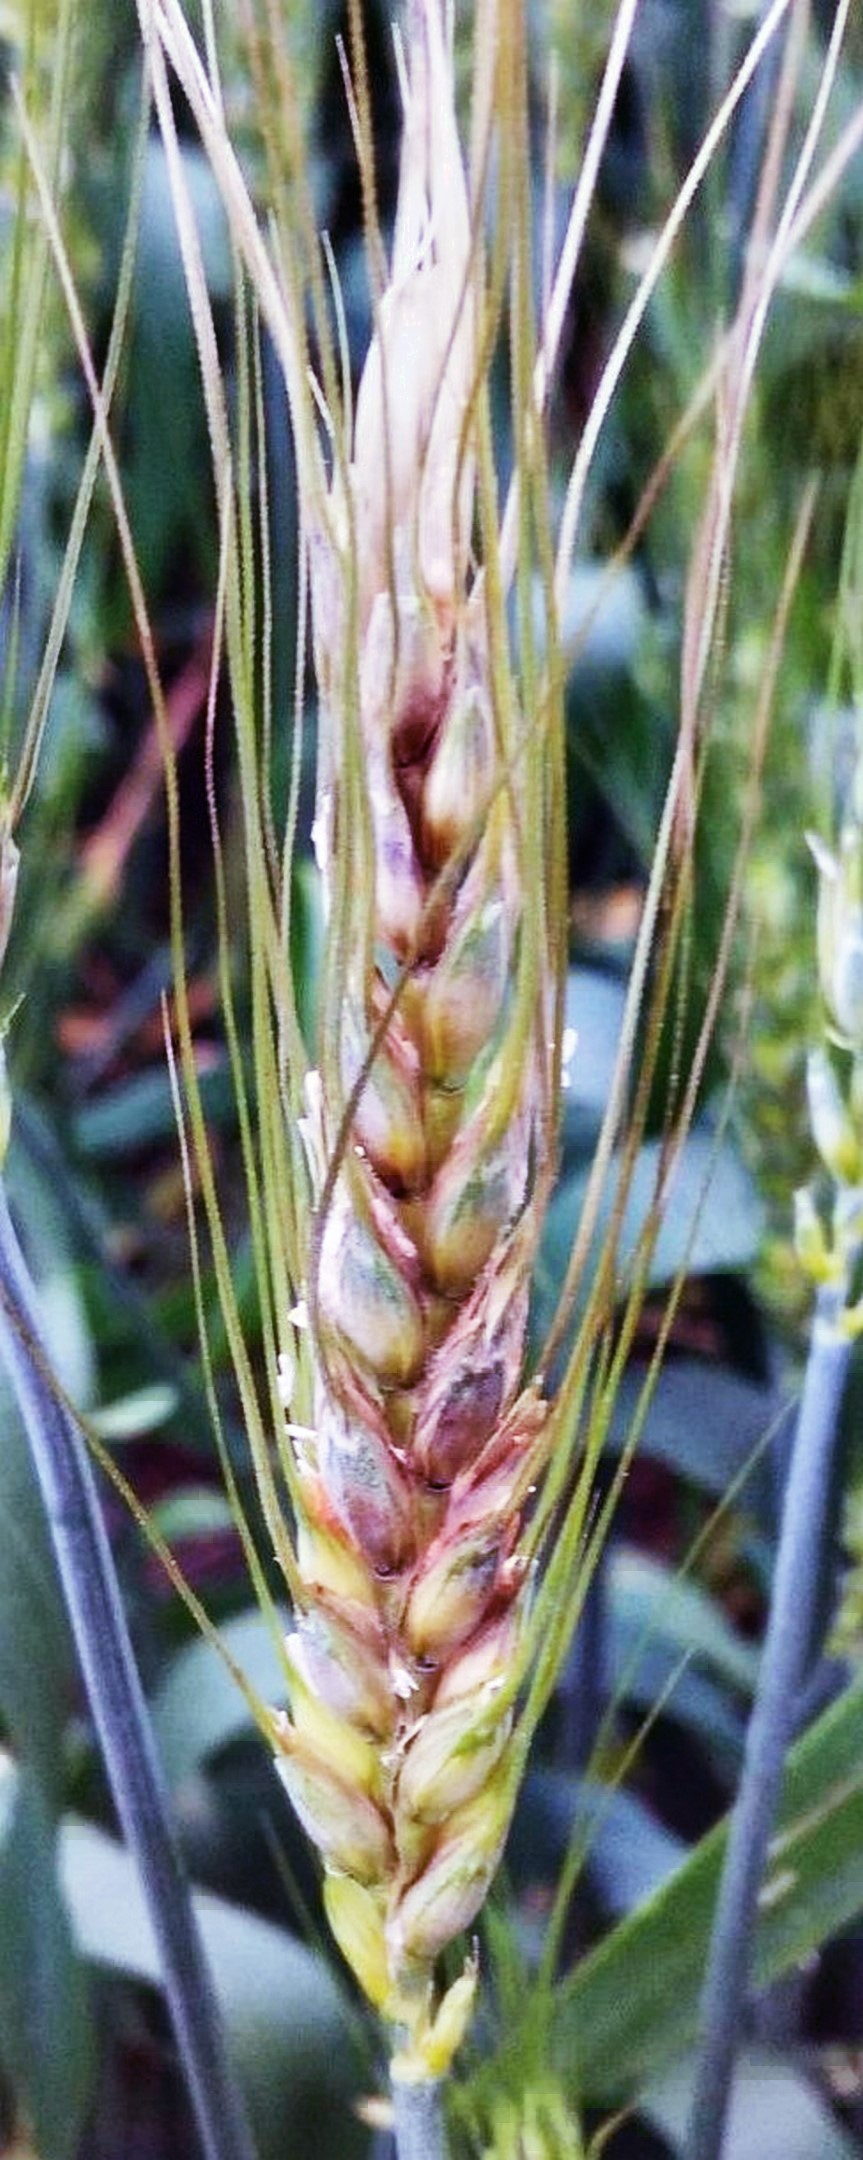Wheat scab: (203, 519, 590, 1980)
